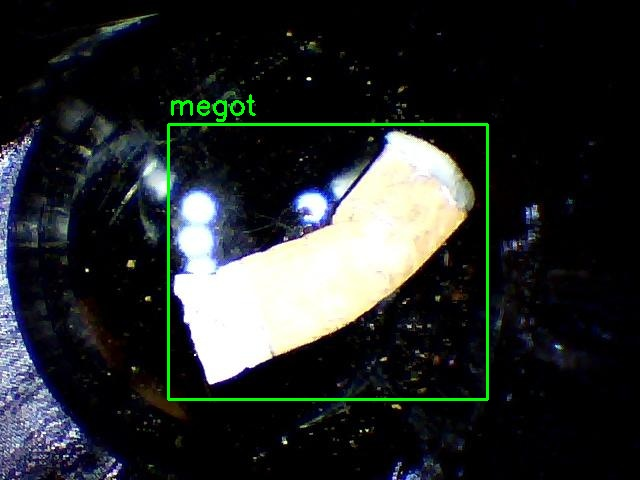megot: (168, 124, 487, 399)
